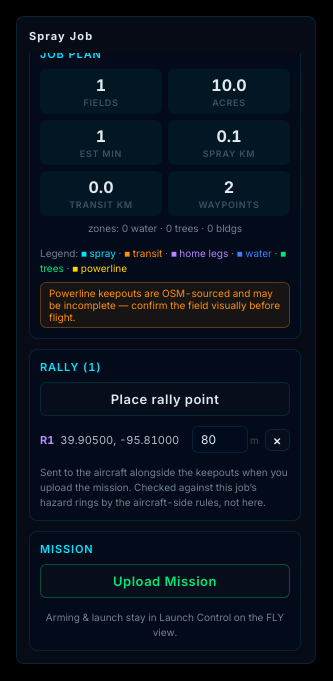
rendering what came back, without adding a verdict › confirms the diversion only when the FC prefers rally over home
(page scrolled)
Click the button "Upload Mission" at (165, 581), box [40,564,290,598]
(page scrolled)
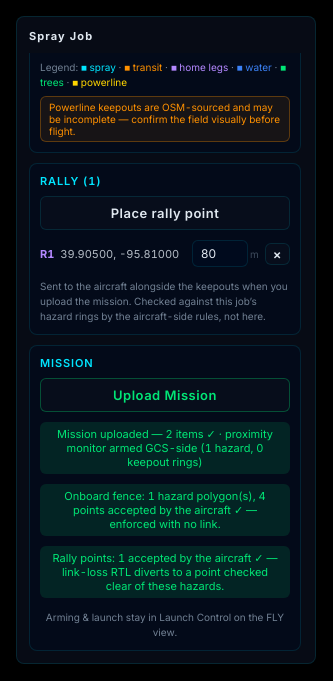
Check: the text with class "rally-line" shows "1 accepted by the aircraft", box [40,546,290,598]
